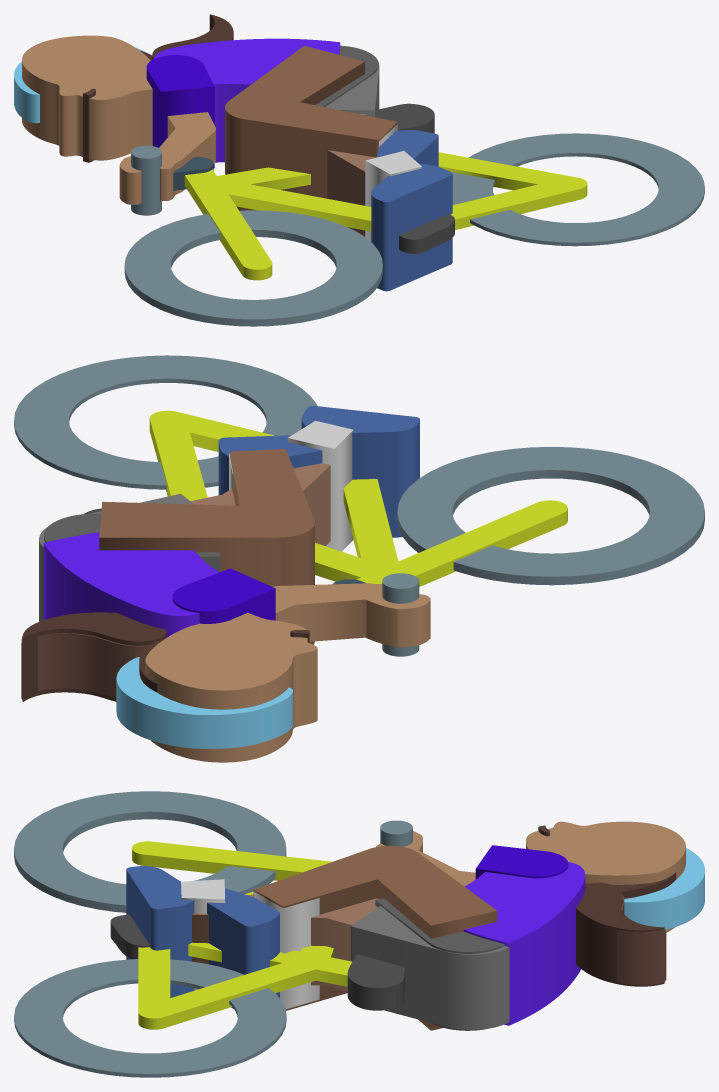
Rendered from emoji_u1f6b4_1f3fd_200d_2640.glb.
The picture shows the model from 3 angles, top to bottom: view 1: azimuth 30°, elevation 25°; view 2: azimuth 150°, elevation 25°; view 3: azimuth 270°, elevation 25°; orthographic projection. The views are drawn at different scales.
Visible parts, largest first — view 1: emoji_u1f6b4_1f3fd_200d_2640; view 2: emoji_u1f6b4_1f3fd_200d_2640; view 3: emoji_u1f6b4_1f3fd_200d_2640.
Part boxes in pixels (<box>): emoji_u1f6b4_1f3fd_200d_2640: <box>14,14,704,326</box>; emoji_u1f6b4_1f3fd_200d_2640: <box>14,355,704,762</box>; emoji_u1f6b4_1f3fd_200d_2640: <box>14,791,704,1077</box>.
Bounding box in the file's own units: 0.0321 × 0.0056 × 0.0334.
